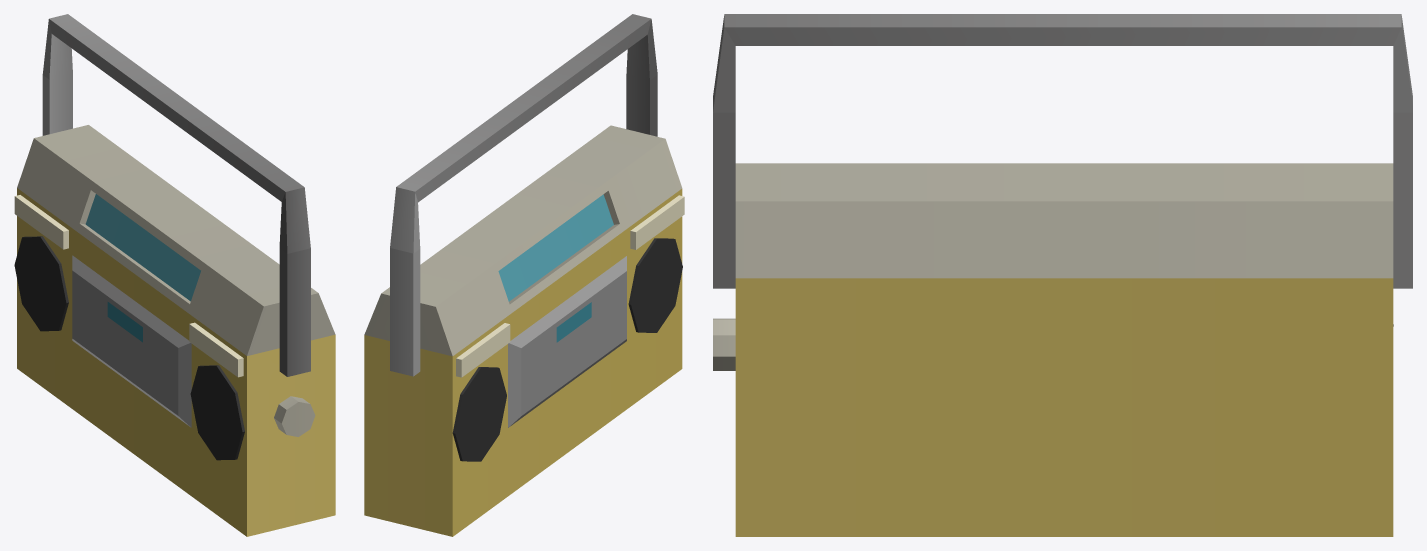
The model's file is Boom_Box.fbx.
The picture shows the model from 3 angles, left to right: view 1: azimuth 30°, elevation 25°; view 2: azimuth 150°, elevation 25°; view 3: azimuth 270°, elevation 25°; orthographic projection. The views are drawn at different scales.
Visible parts, largest first — view 1: Boom_Box; view 2: Boom_Box; view 3: Boom_Box.
Part boxes in pixels (<box>): Boom_Box: <box>14,14,335,536</box>; Boom_Box: <box>364,14,684,536</box>; Boom_Box: <box>713,14,1412,536</box>.
Size of the model in its own units: 28.44 by 96.88 by 127.
